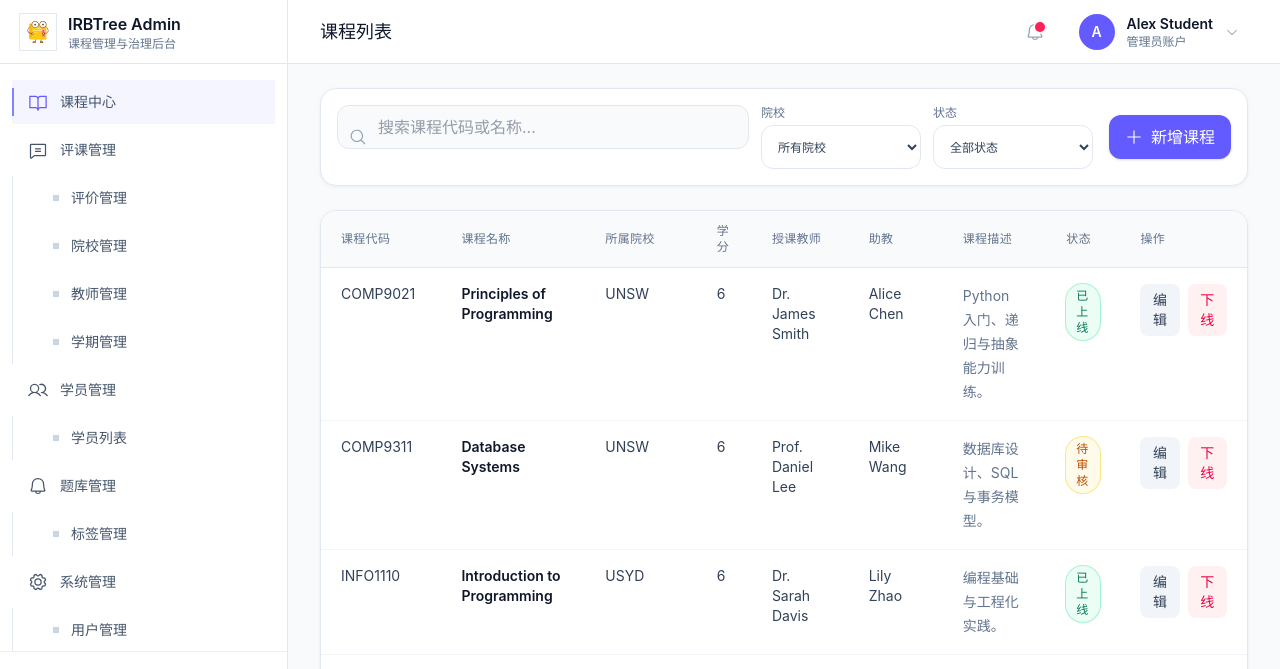
Test: Admin domain navigation › uses the correct link target and navigates to the default child when clicking 学员管理
This screenshot has width=1280, height=669.
Step 1. Click the link "学员管理" → (72, 390), box [28,380,116,400]
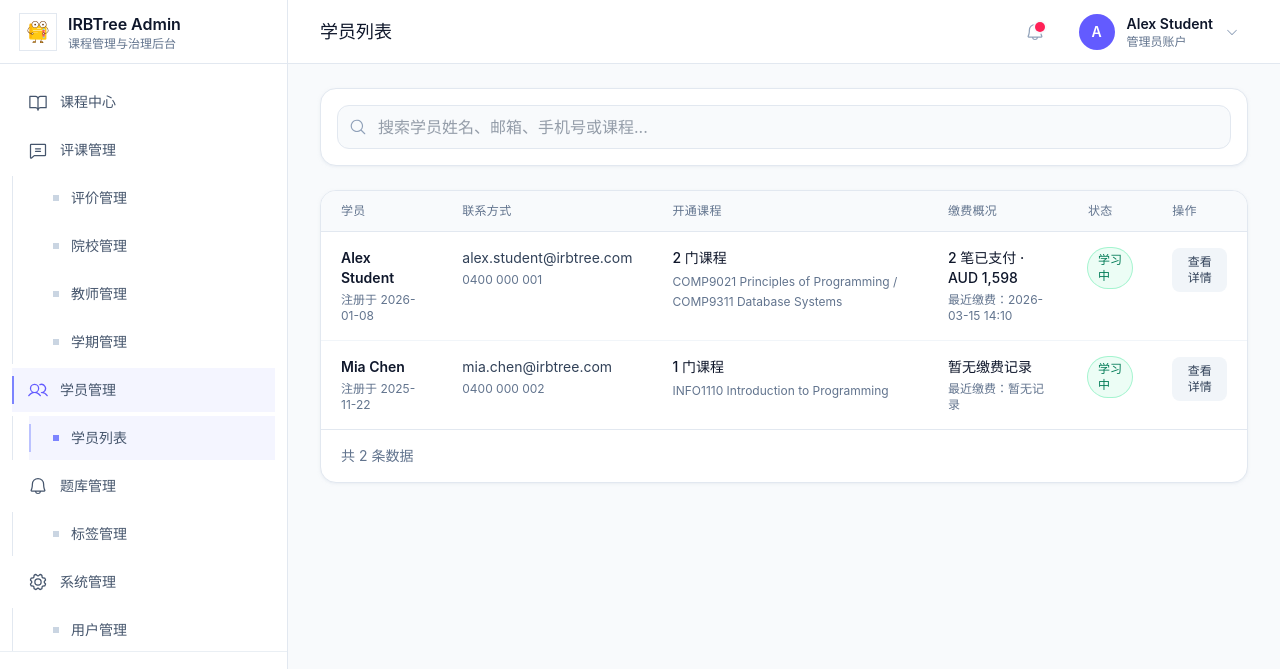
Expected: the heading "学员列表" is shown, [320,18,392,46]
